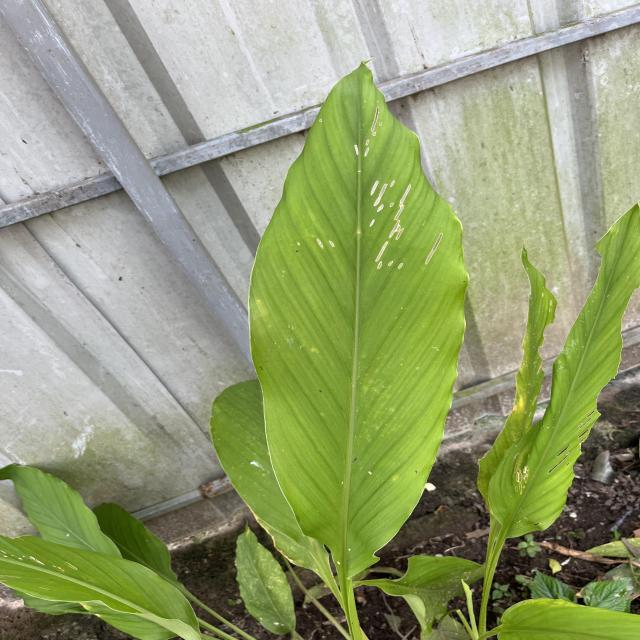Curcuma longa: (242, 55, 473, 584)
